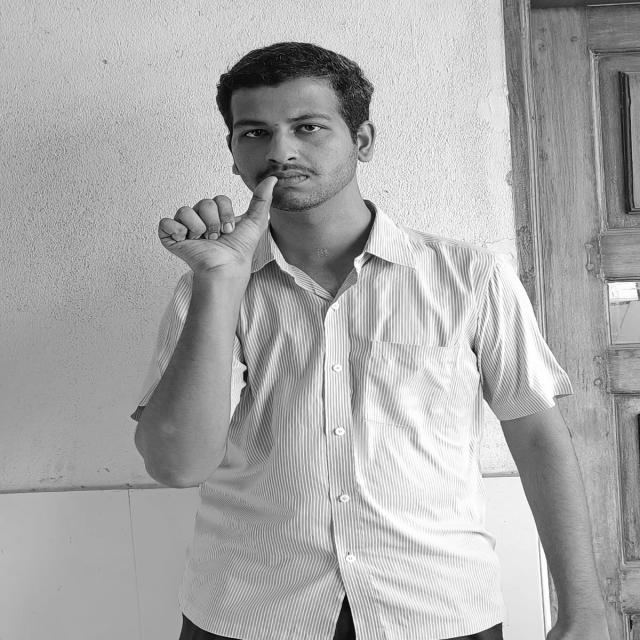Drink: (153, 174, 288, 273)
